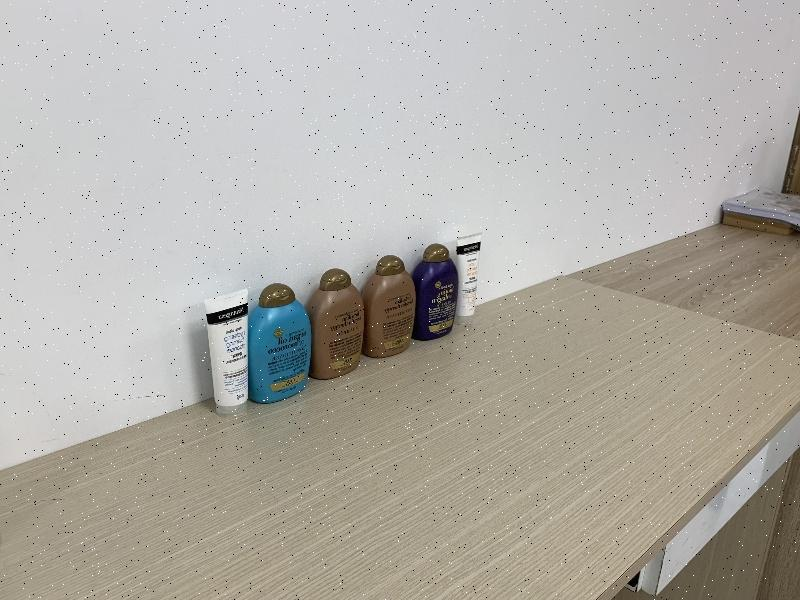AcneFoamingCleanser: (457, 232, 482, 325)
ArganOilOfMorocco_Conditioner: (248, 283, 311, 404)
BiotinCollagen_Shampoo: (415, 243, 457, 341)
BrazilianKeratinTherapy_Shampoo: (311, 268, 364, 380)
BrazilianKerationTherapy_Conditioner: (364, 255, 416, 358)
HydratingFoamingCleanser: (204, 288, 248, 418)
